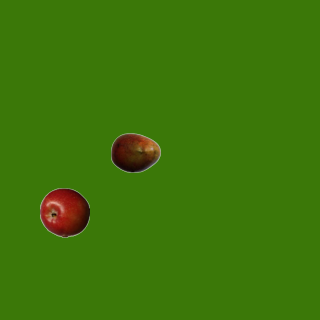Apple Braeburn: (39, 187, 89, 237)
Mango Red: (110, 127, 160, 177)
